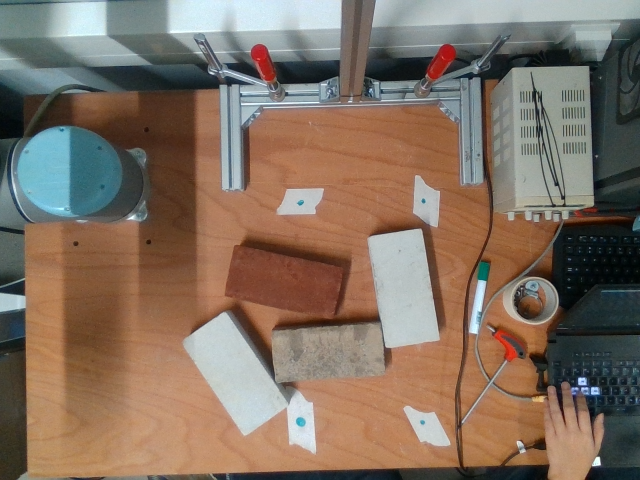brick: (181, 314, 286, 435), (225, 246, 343, 319), (369, 230, 439, 347), (271, 320, 387, 385)
